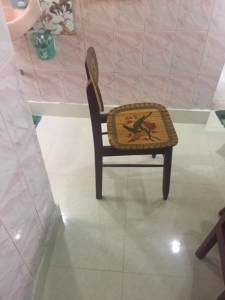chair: (83, 46, 179, 201)
